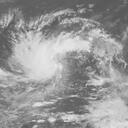cyclone: (0, 7, 127, 126)
